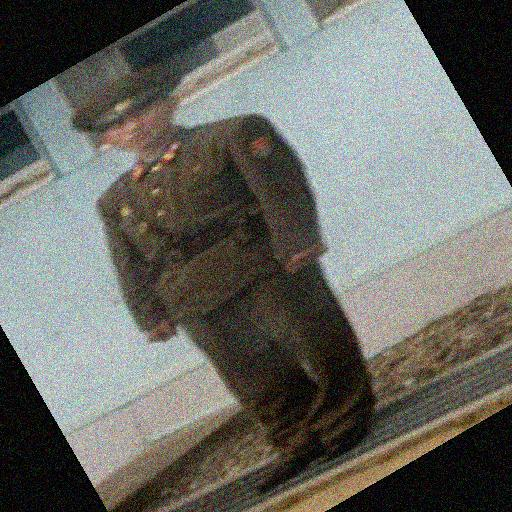north army: (53, 67, 380, 447)
